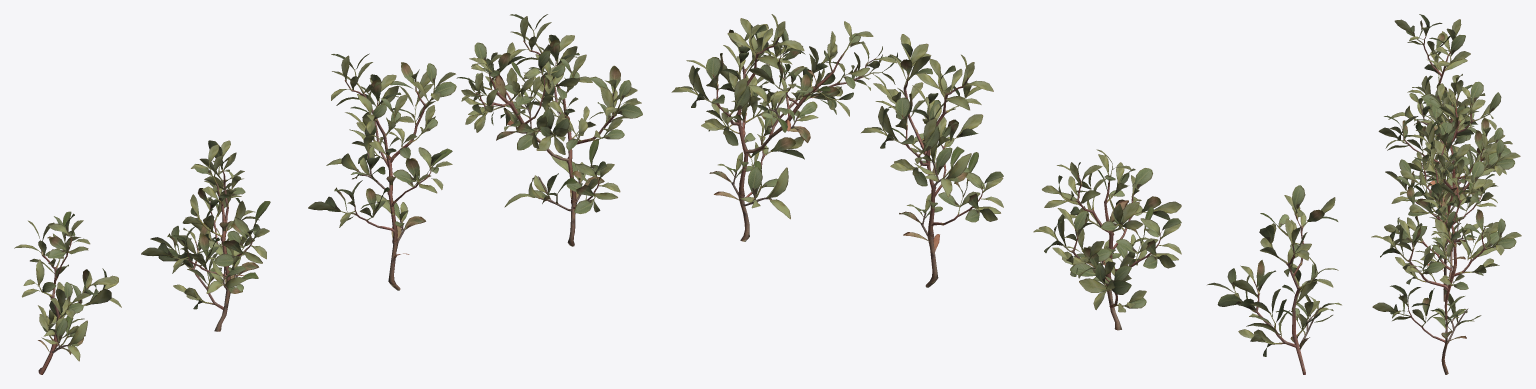
Rendered from shrub_04.glb.
3 views of the same model, side by side, from view 1: azimuth 30°, elevation 25°; view 2: azimuth 150°, elevation 25°; view 3: azimuth 270°, elevation 25° (orthographic). The views are drawn at different scales.
Parts seen in each view (by area): view 1: shrub_04; view 2: shrub_04; view 3: shrub_04.
Boxes of the visible parts, x1,y1,x2,y2 form: shrub_04: (14,14,642,374); shrub_04: (671,14,1341,374); shrub_04: (1371,14,1521,374).
Size of the model in its own units: 0.5837 by 0.2192 by 0.146.
Materials: 1 (1 with a texture image).
